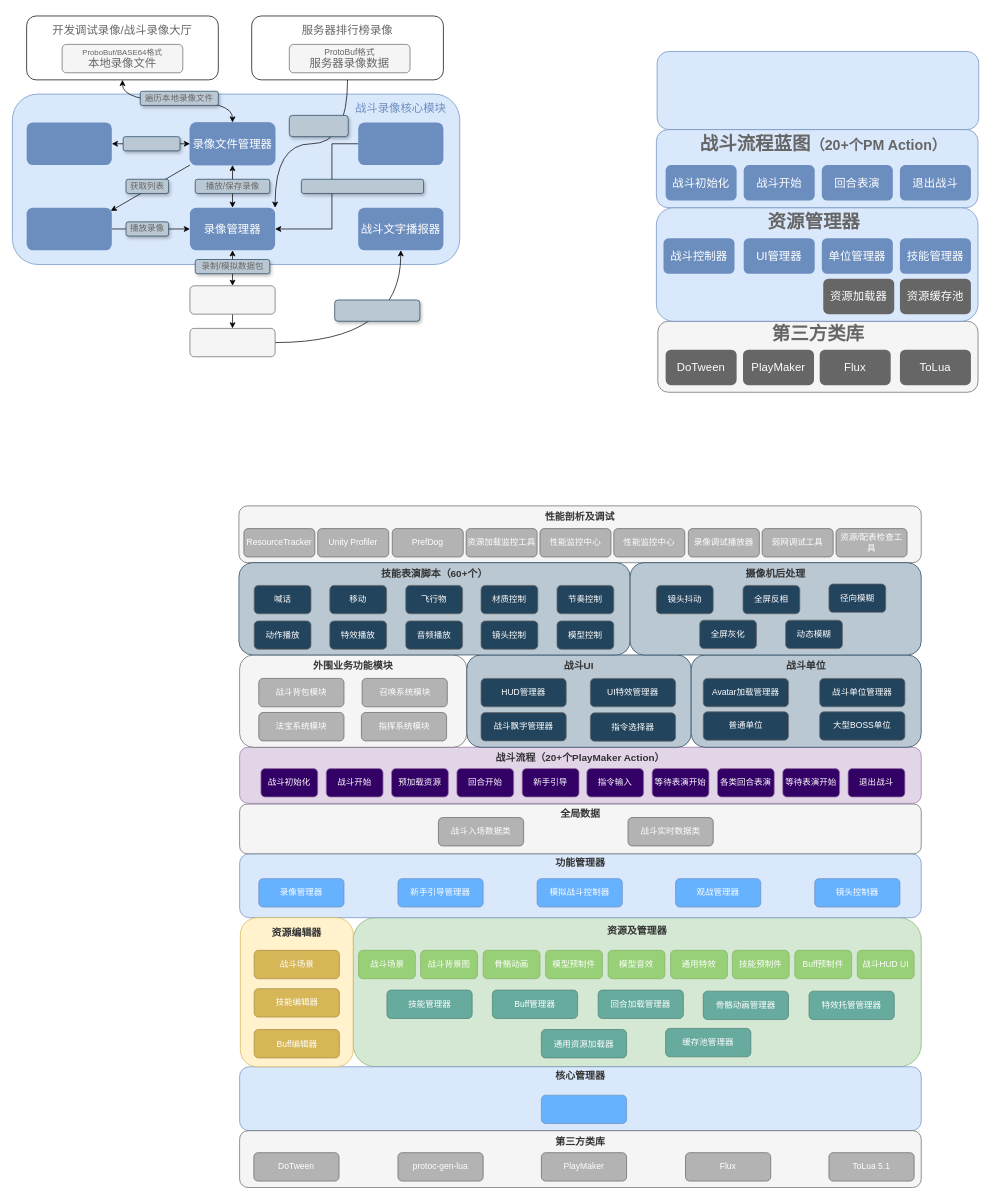
Image size: 998x1200. Some labels were removed from this diagram. The shapes that lost their labels are listed below. From the top down, each one's centre as x and y in pixels, then its label:
At pixel 817 90: "技能表演脚本 （60+个 Flux Script）".
At pixel 68 143: "录像上传下载器".
At pixel 152 144: "上传/下载录像".
At pixel 319 127: "逐回合请求 录像数据".
At pixel 400 143: "战场包构建器".
At pixel 363 187: "跳转回合时，生成该回合战场包".
At pixel 68 228: "录像播放器".
At pixel 232 299: "网络模块".
At pixel 377 311: "根据表演事件产生 战斗文字播报".
At pixel 232 342: "战斗模块".
At pixel 584 1109: "网络层控制器".
